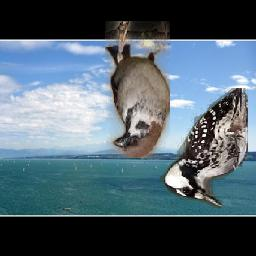Sparrow: (106, 22, 171, 159)
Woodpecker: (160, 88, 248, 208)
